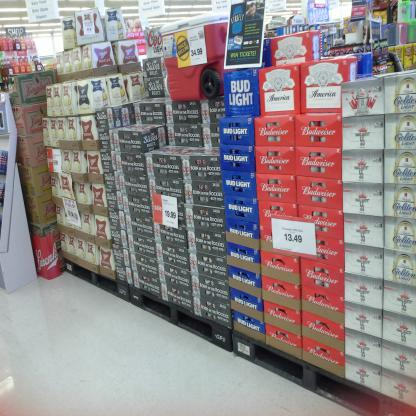Void: (170, 128, 219, 147)
